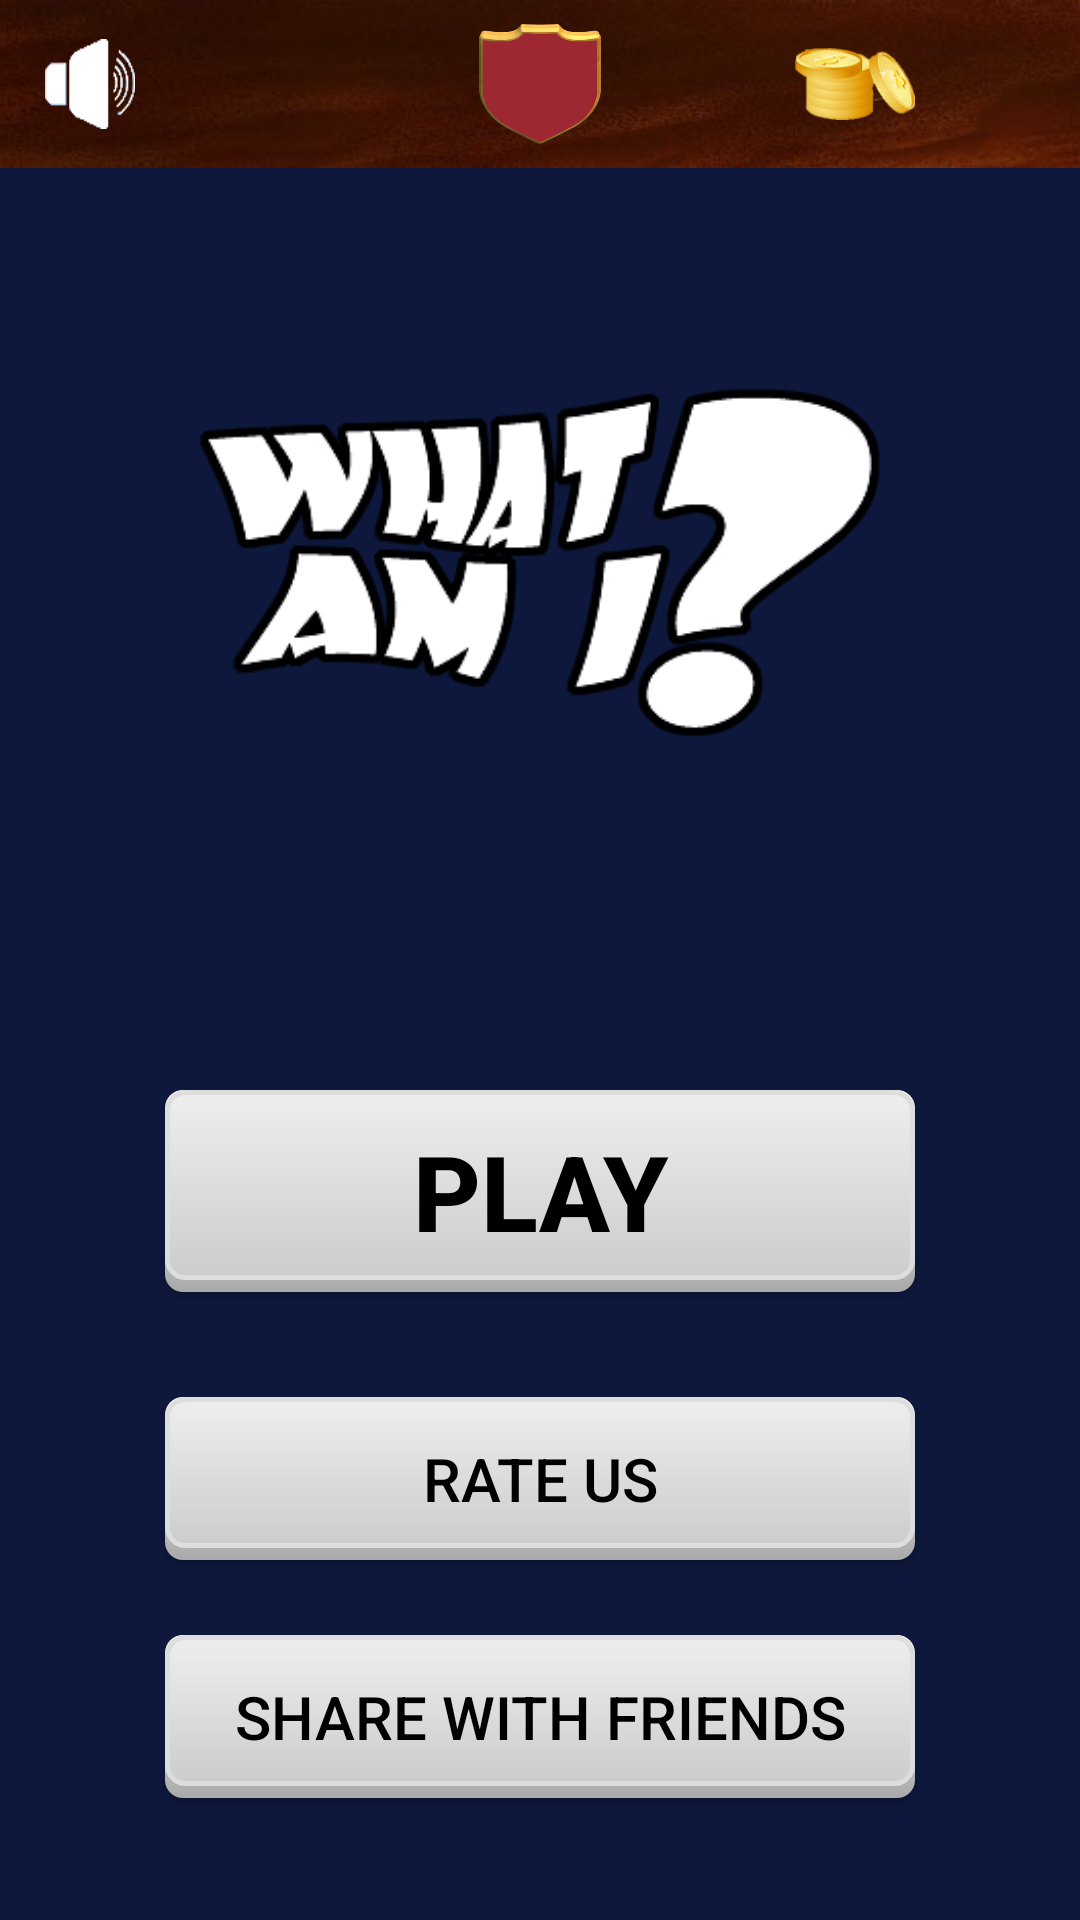

Named icons in this screenshot (1080×1920) and their bounding boxes, (x1, y1, x2, y2):
sound on: (45, 39, 135, 129)
